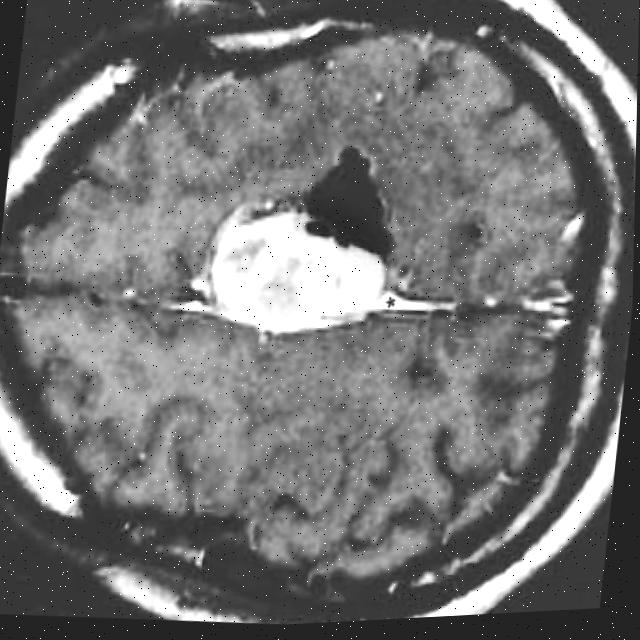Meningioma: (199, 193, 395, 347)
